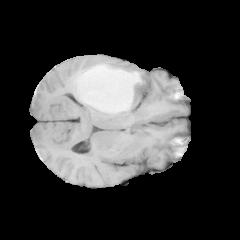glioma: (65, 56, 160, 129)
